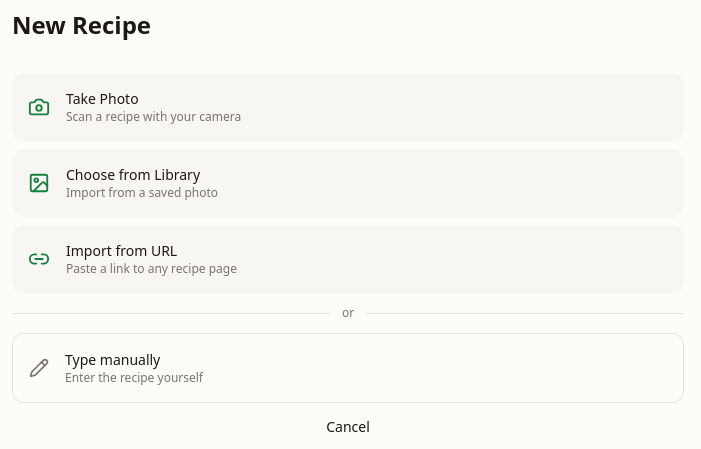
Scenario: RecipeForm — AI import panel › shows URL input when Import from URL is selected
Click the text "Import from URL" at (122, 250), box [66,241,177,260]
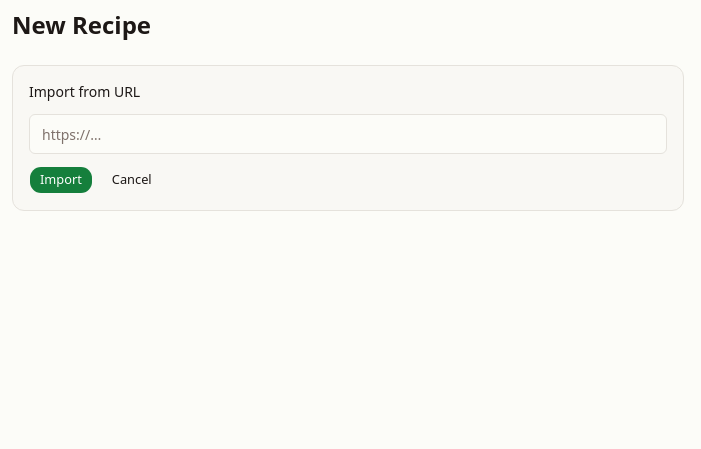
Expected: the field with placeholder "https://…" is shown, [29,114,667,154]
